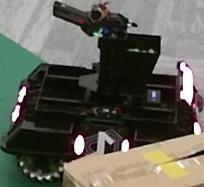armor_1: (74, 134, 129, 155)
light: (178, 61, 195, 106)
